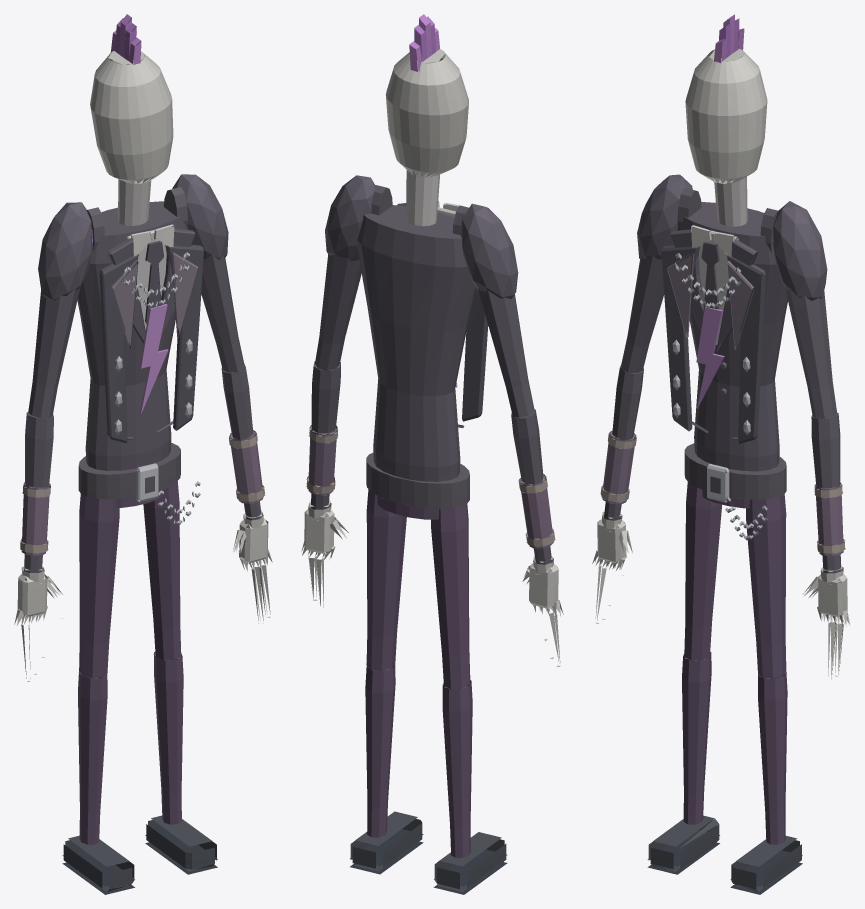
File: SlendermanPunk.glb
3 views of the same model, side by side, from view 1: azimuth 30°, elevation 25°; view 2: azimuth 150°, elevation 25°; view 3: azimuth 330°, elevation 25° (orthographic).
Parts seen in each view (by area): view 1: Body, ArmR, LegR, LegL, ArmL, Head; view 2: Body, ArmR, LegR, LegL, ArmL, Head; view 3: Body, ArmL, LegL, LegR, ArmR, Head.
Part boxes in pixels (x1,y1,x2,y2): Body: (77,179,204,525); ArmR: (14,202,92,681); LegR: (62,493,134,894); LegL: (143,481,217,874); ArmL: (172,174,272,623); Head: (90,14,173,183); Body: (357,169,488,519); ArmR: (460,203,563,666); LegR: (431,504,507,894); LegL: (350,489,423,874); ArmL: (301,175,374,607); Head: (386,14,468,177); Body: (661,176,787,540); ArmL: (773,201,849,679); LegL: (730,494,802,894); LegR: (647,481,721,874); ArmR: (592,174,692,623); Head: (685,14,767,183).
Bounding box in the file's own units: 2.68 × 8.38 × 0.8834.
